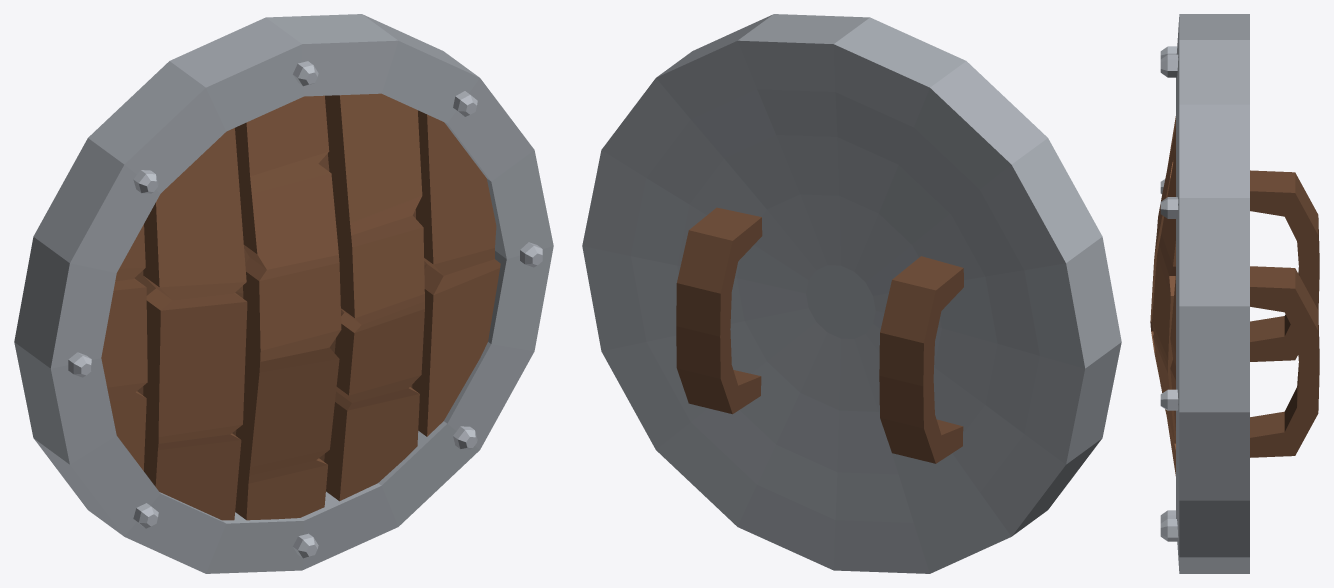
The model's file is shield_round.glb.
3 views of the same model, side by side, from view 1: azimuth 30°, elevation 25°; view 2: azimuth 150°, elevation 25°; view 3: azimuth 270°, elevation 25° (orthographic). The views are drawn at different scales.
Parts seen in each view (by area): view 1: Shield_Round; view 2: Shield_Round; view 3: Shield_Round.
Part boxes in pixels (x1,y1,x2,y2): Shield_Round: (14, 14, 553, 573); Shield_Round: (582, 14, 1121, 573); Shield_Round: (1150, 14, 1319, 573).
Bounding box in the file's own units: 0.76 × 0.76 × 0.2294.
